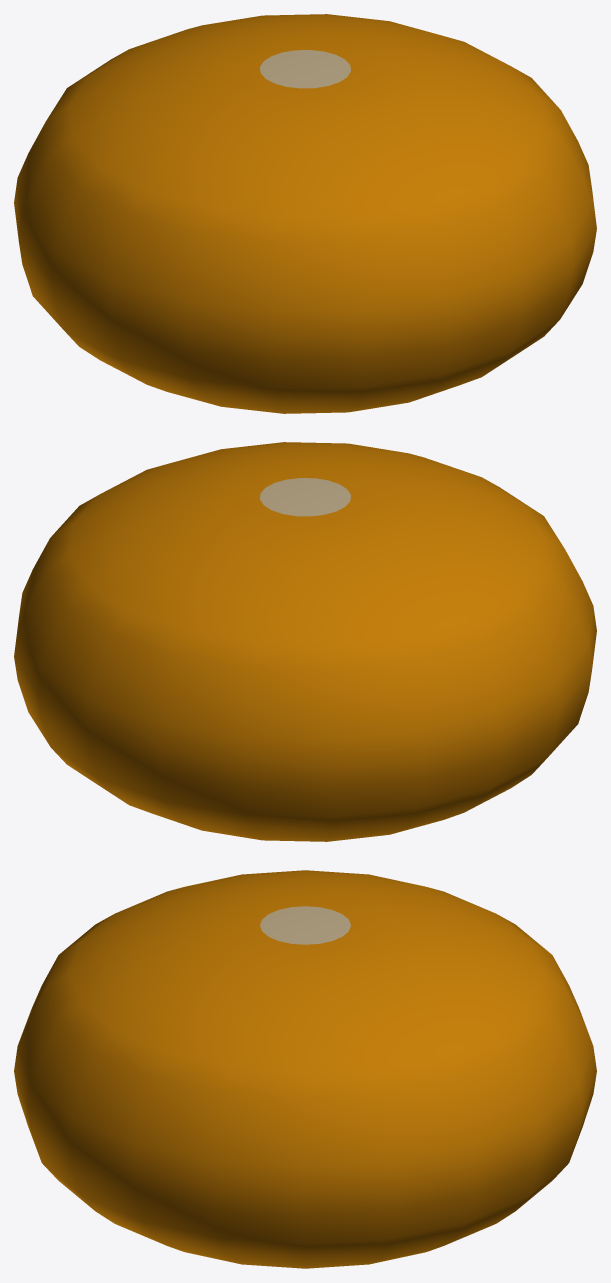
Rendered from clementine.fbx.
3 renders of one model, top to bottom at view 1: azimuth 30°, elevation 25°; view 2: azimuth 150°, elevation 25°; view 3: azimuth 270°, elevation 25°, orthographic.
Parts seen in each view (by area): view 1: pSphere1; view 2: pSphere1; view 3: pSphere1.
Part boxes in pixels (x1,y1,x2,y2): pSphere1: (14, 14, 596, 413); pSphere1: (14, 442, 596, 841); pSphere1: (14, 870, 596, 1268).
Bounding box in the file's own units: 10.84 × 6.11 × 10.84.
